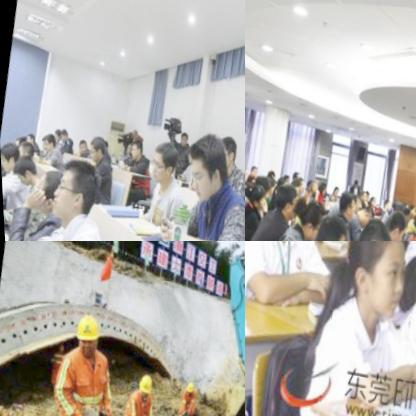head: (334, 241, 415, 318), (44, 155, 103, 223), (181, 129, 232, 201), (19, 166, 67, 221), (144, 137, 179, 185), (305, 208, 346, 241), (292, 198, 322, 240), (347, 213, 392, 241), (211, 131, 239, 169), (270, 180, 298, 218), (9, 153, 38, 187), (379, 205, 406, 241), (82, 131, 105, 164), (245, 180, 267, 210), (333, 190, 355, 218), (350, 199, 371, 227), (12, 136, 33, 162), (124, 135, 141, 161), (18, 126, 34, 147), (38, 130, 54, 151), (256, 174, 271, 194), (73, 134, 87, 154), (303, 177, 319, 194), (125, 122, 140, 140), (46, 124, 59, 141), (396, 204, 409, 221), (175, 127, 187, 145), (120, 135, 131, 154), (292, 175, 304, 192), (354, 186, 366, 202), (408, 205, 416, 228), (287, 175, 298, 191), (56, 123, 67, 138), (327, 183, 337, 197), (365, 194, 375, 208), (245, 163, 255, 176), (315, 180, 324, 192), (378, 195, 387, 207), (347, 177, 356, 188), (405, 201, 412, 213)
helmet: (67, 308, 104, 359), (129, 368, 155, 404), (181, 377, 199, 400)
